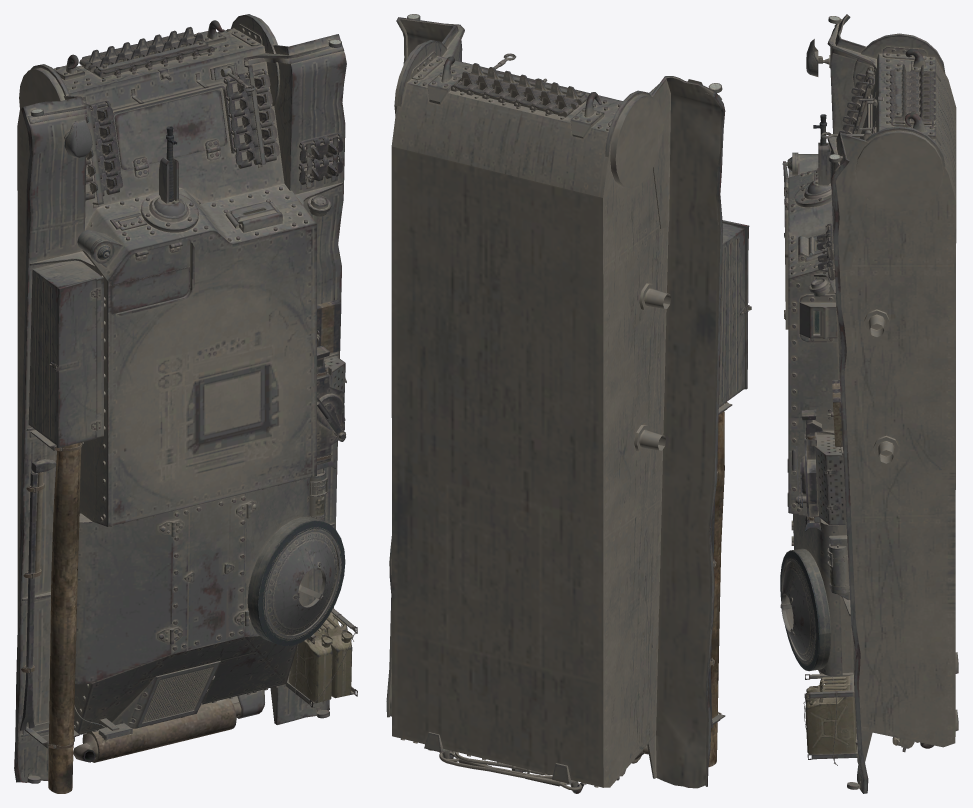
The model's file is Hull.glb.
The picture shows the model from 3 angles, left to right: view 1: azimuth 30°, elevation 25°; view 2: azimuth 150°, elevation 25°; view 3: azimuth 270°, elevation 25°; orthographic projection. The views are drawn at different scales.
Parts seen in each view (by area): view 1: set_0_group_0; view 2: set_0_group_0; view 3: set_0_group_0.
Boxes of the visible parts, x1,y1,x2,y2 form: set_0_group_0: (14, 14, 357, 793); set_0_group_0: (386, 14, 751, 793); set_0_group_0: (780, 14, 958, 793).
Bounding box in the file's own units: 2.15 × 4.5 × 1.13.
1 material, 1 textured.
